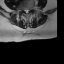CCS_stenosis: (26, 8, 28, 16)
LFS_stenosis: (29, 6, 31, 12)
LLS_normal: (28, 8, 29, 14)
RFS_severe_stenosis: (22, 7, 24, 12)
RLS_stenosis: (24, 8, 26, 14)
